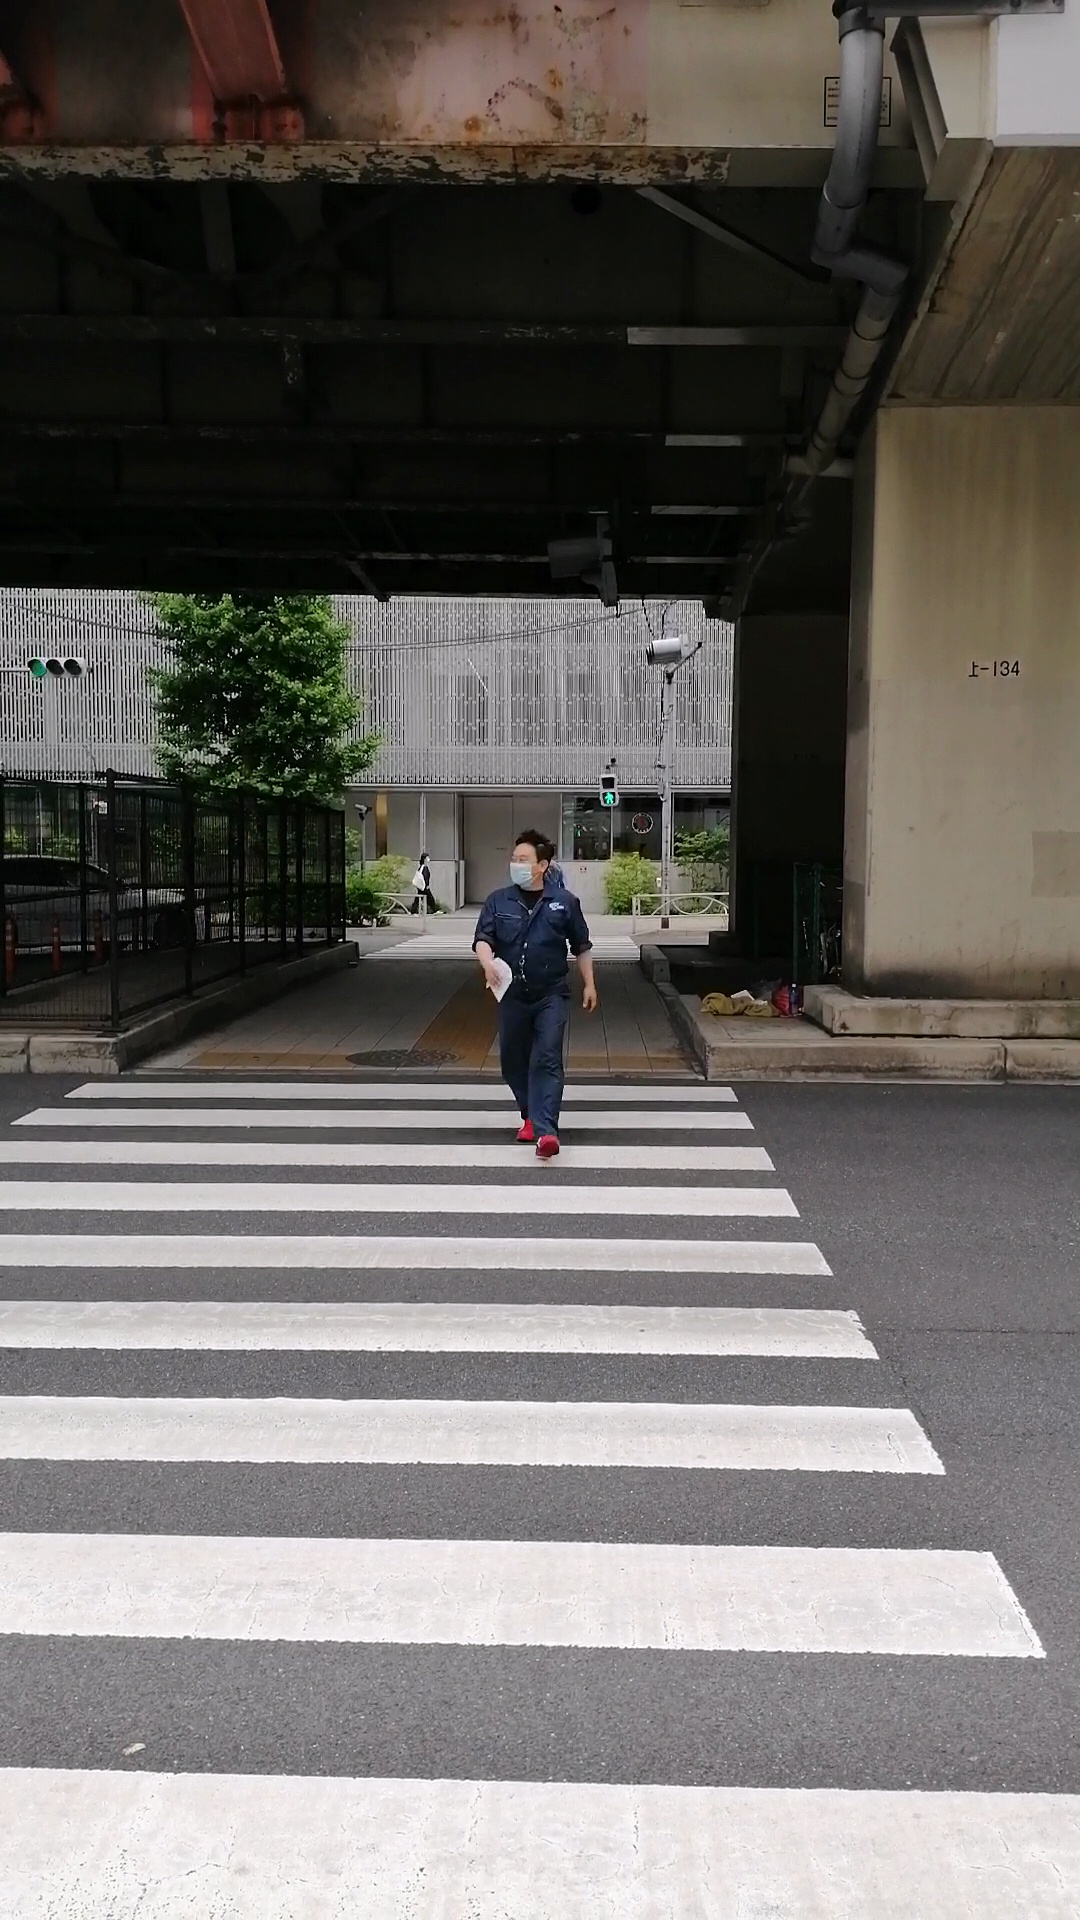green: (597, 771, 618, 806)
